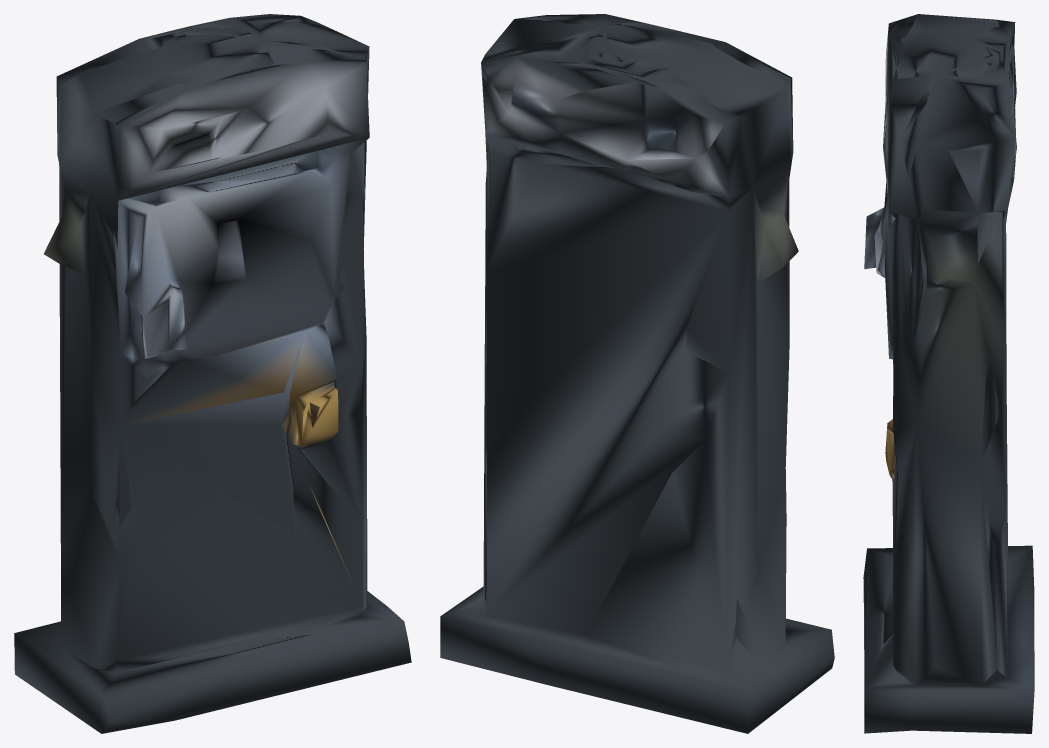
The model's file is gen3d-parking-meter-lod1.glb.
3 renders of one model, left to right at view 1: azimuth 30°, elevation 25°; view 2: azimuth 150°, elevation 25°; view 3: azimuth 270°, elevation 25°, orthographic. The views are drawn at different scales.
Visible parts, largest first — view 1: part_0; view 2: part_0; view 3: part_0.
Part boxes in pixels (x1,y1,x2,y2): part_0: (14, 14, 411, 733); part_0: (440, 14, 834, 733); part_0: (863, 14, 1034, 733).
Bounding box in the file's own units: 0.5217 × 0.9963 × 0.2546.
